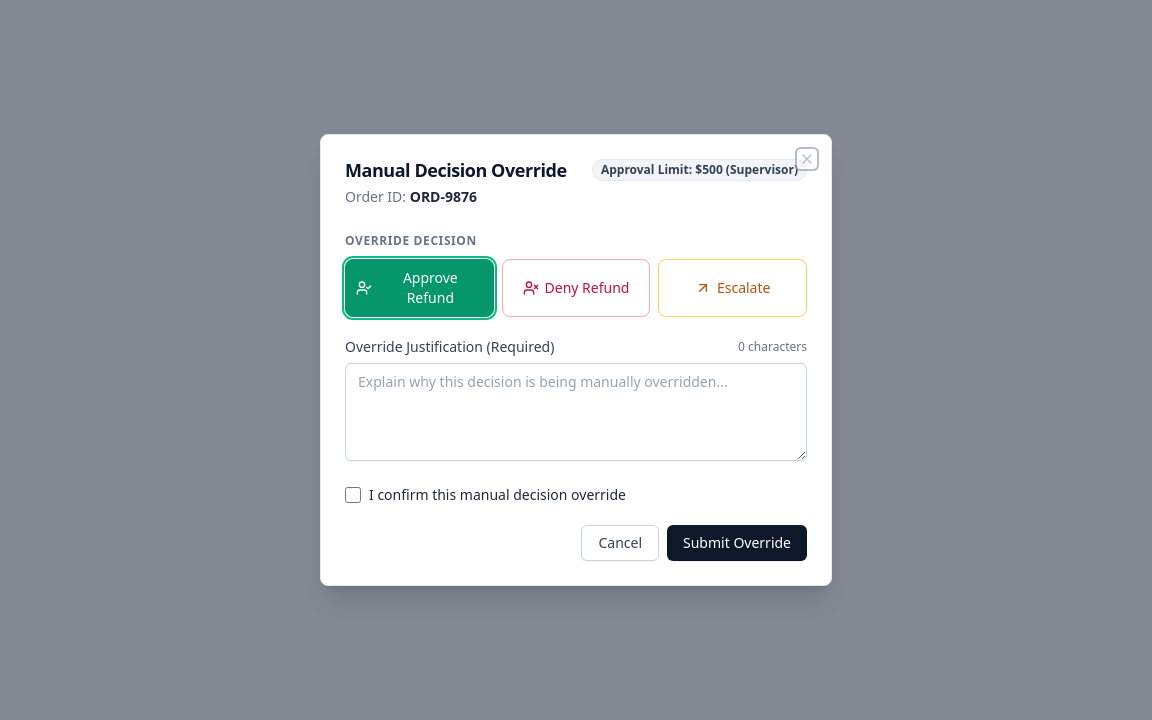
ManualOverrideModal component › renders decision choice buttons and character counter
The image size is (1152, 720).
Expected: the button "Approve Refund" is shown, [345,259,494,317]
# Click Deny Refund to switch choice
Click the button "Deny Refund" at coordinates (576, 288), box [502,259,650,317]
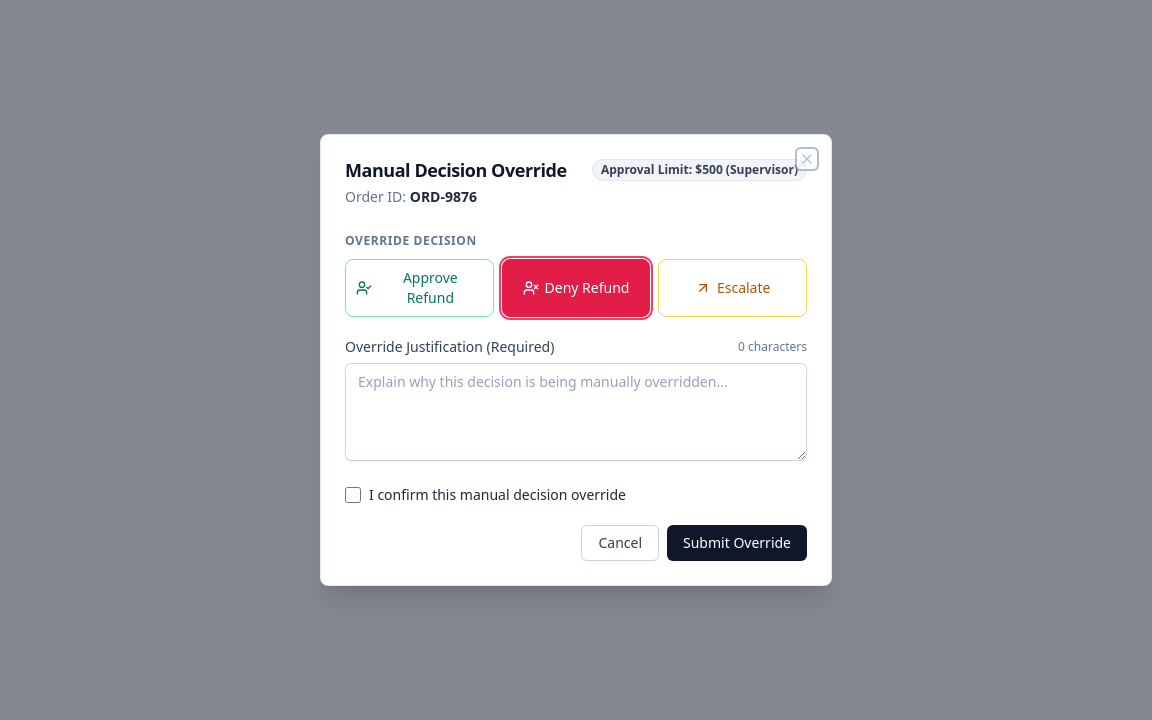
Expected: the text with test id "character-counter" reads "0 characters", [738,339,807,355]
Expected: the button "Approve Refund" is not pressed, [345,259,494,317]
Expected: the button "Deny Refund" is pressed, [502,259,650,317]
Type "Valid supervisor rationale" into the text box labelled "Override Justification (Required)" at coordinates (576, 412), box [345,363,807,461]
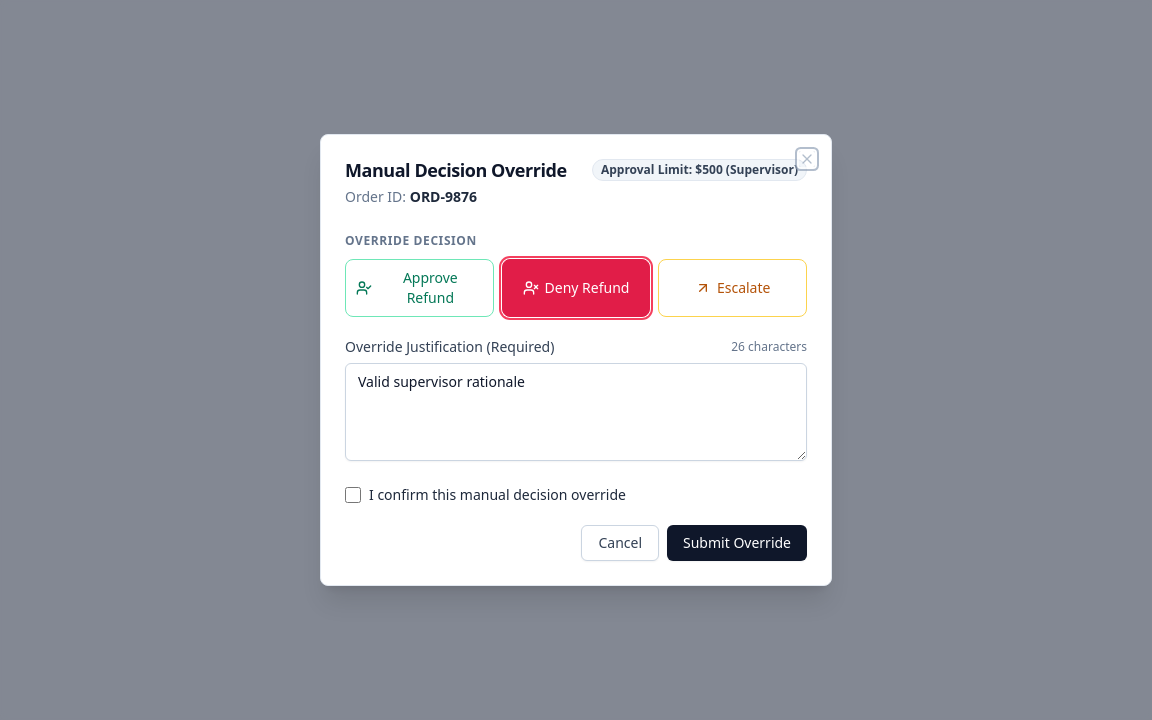
Expected: the text with test id "character-counter" reads "26 characters", [731,339,807,355]
